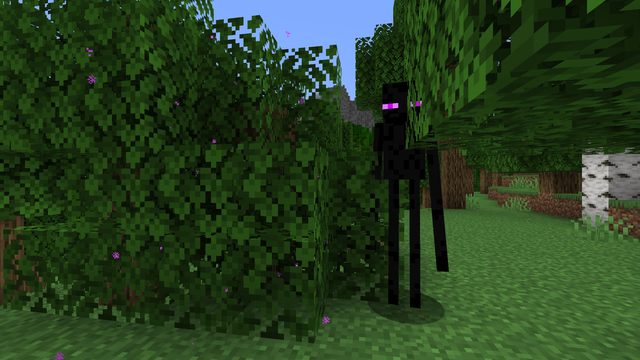endermens: (379, 72, 434, 317)
